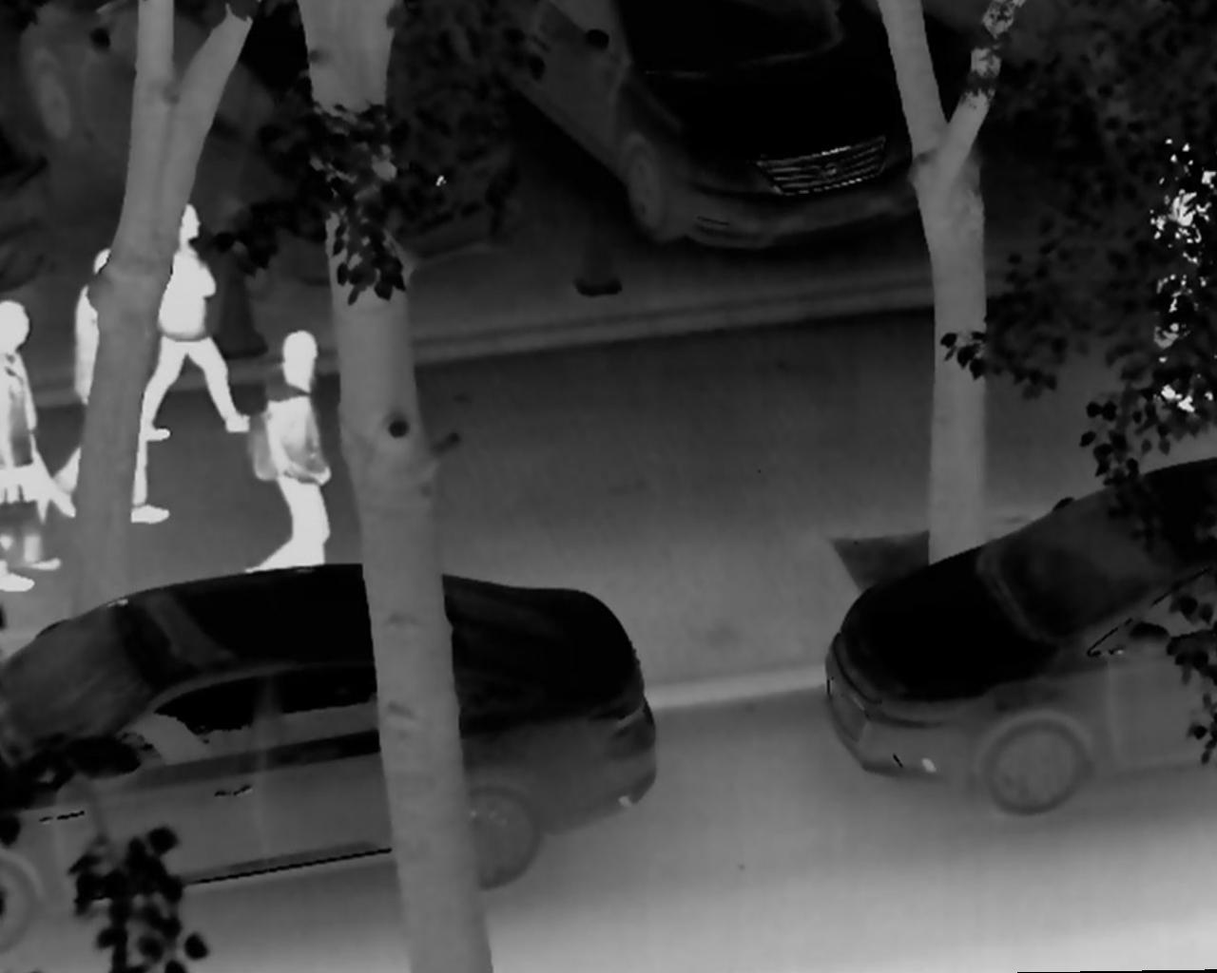person: (53, 245, 175, 523), (132, 200, 257, 450), (244, 326, 340, 581), (1148, 93, 1216, 429), (3, 298, 65, 604)
